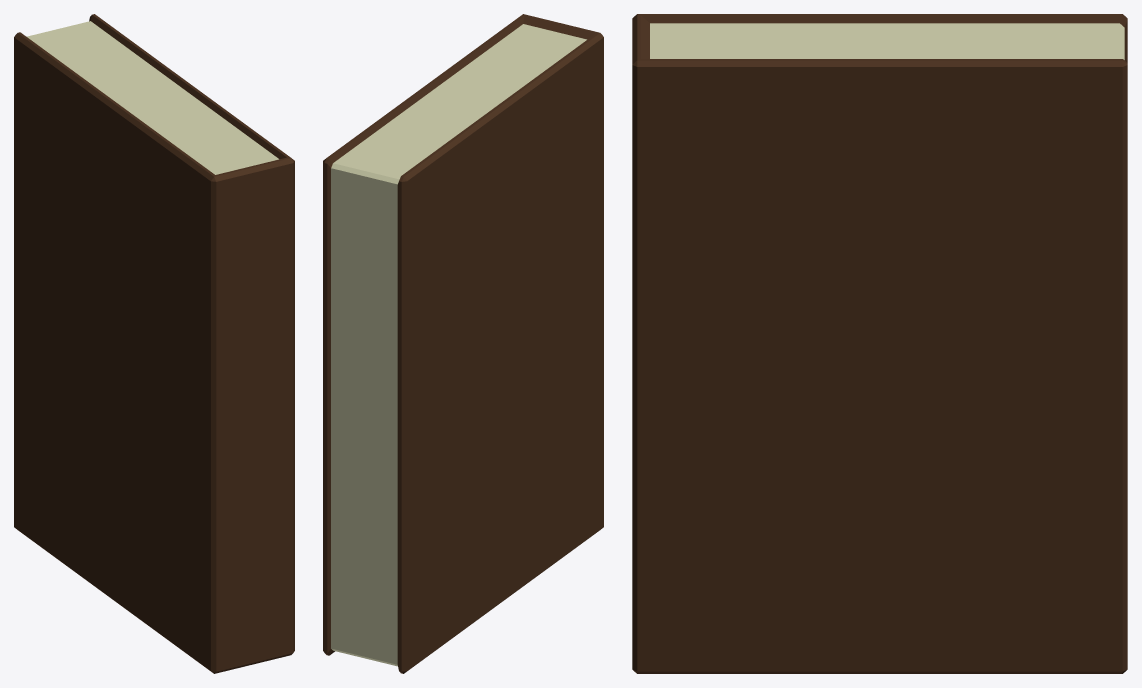
Rendered from BOOK_08.fbx.
The picture shows the model from 3 angles, left to right: view 1: azimuth 30°, elevation 25°; view 2: azimuth 150°, elevation 25°; view 3: azimuth 270°, elevation 25°; orthographic projection. The views are drawn at different scales.
Parts seen in each view (by area): view 1: BOOK_08; view 2: BOOK_08; view 3: BOOK_08.
Part boxes in pixels (bbox=[...]): BOOK_08: bbox=[14, 14, 294, 673]; BOOK_08: bbox=[323, 14, 603, 673]; BOOK_08: bbox=[632, 14, 1127, 673].
Bounding box in the file's own units: 2.23 × 12.62 × 9.24.
